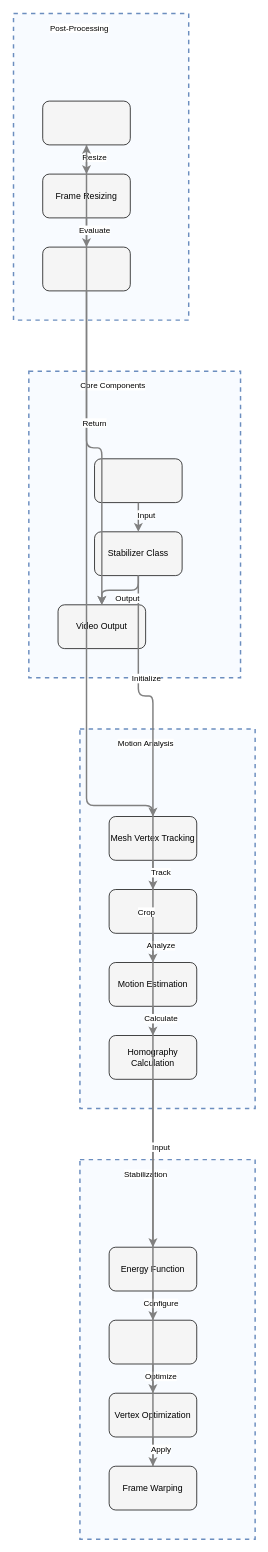
The diagram is 268 pixels wide and 1552 high, and some of its shapes have lost their labels. The shapes that lost their labels are listed below. From the top down, each one's box as (x1, y1, x2, y2) in pixels, then its label:
(42, 100, 130, 145): Frame Cropping
(42, 246, 130, 291): Quality Metrics
(94, 458, 182, 503): Video Input
(108, 889, 197, 933): Feature Detection
(108, 1319, 197, 1364): Adaptive Weights
